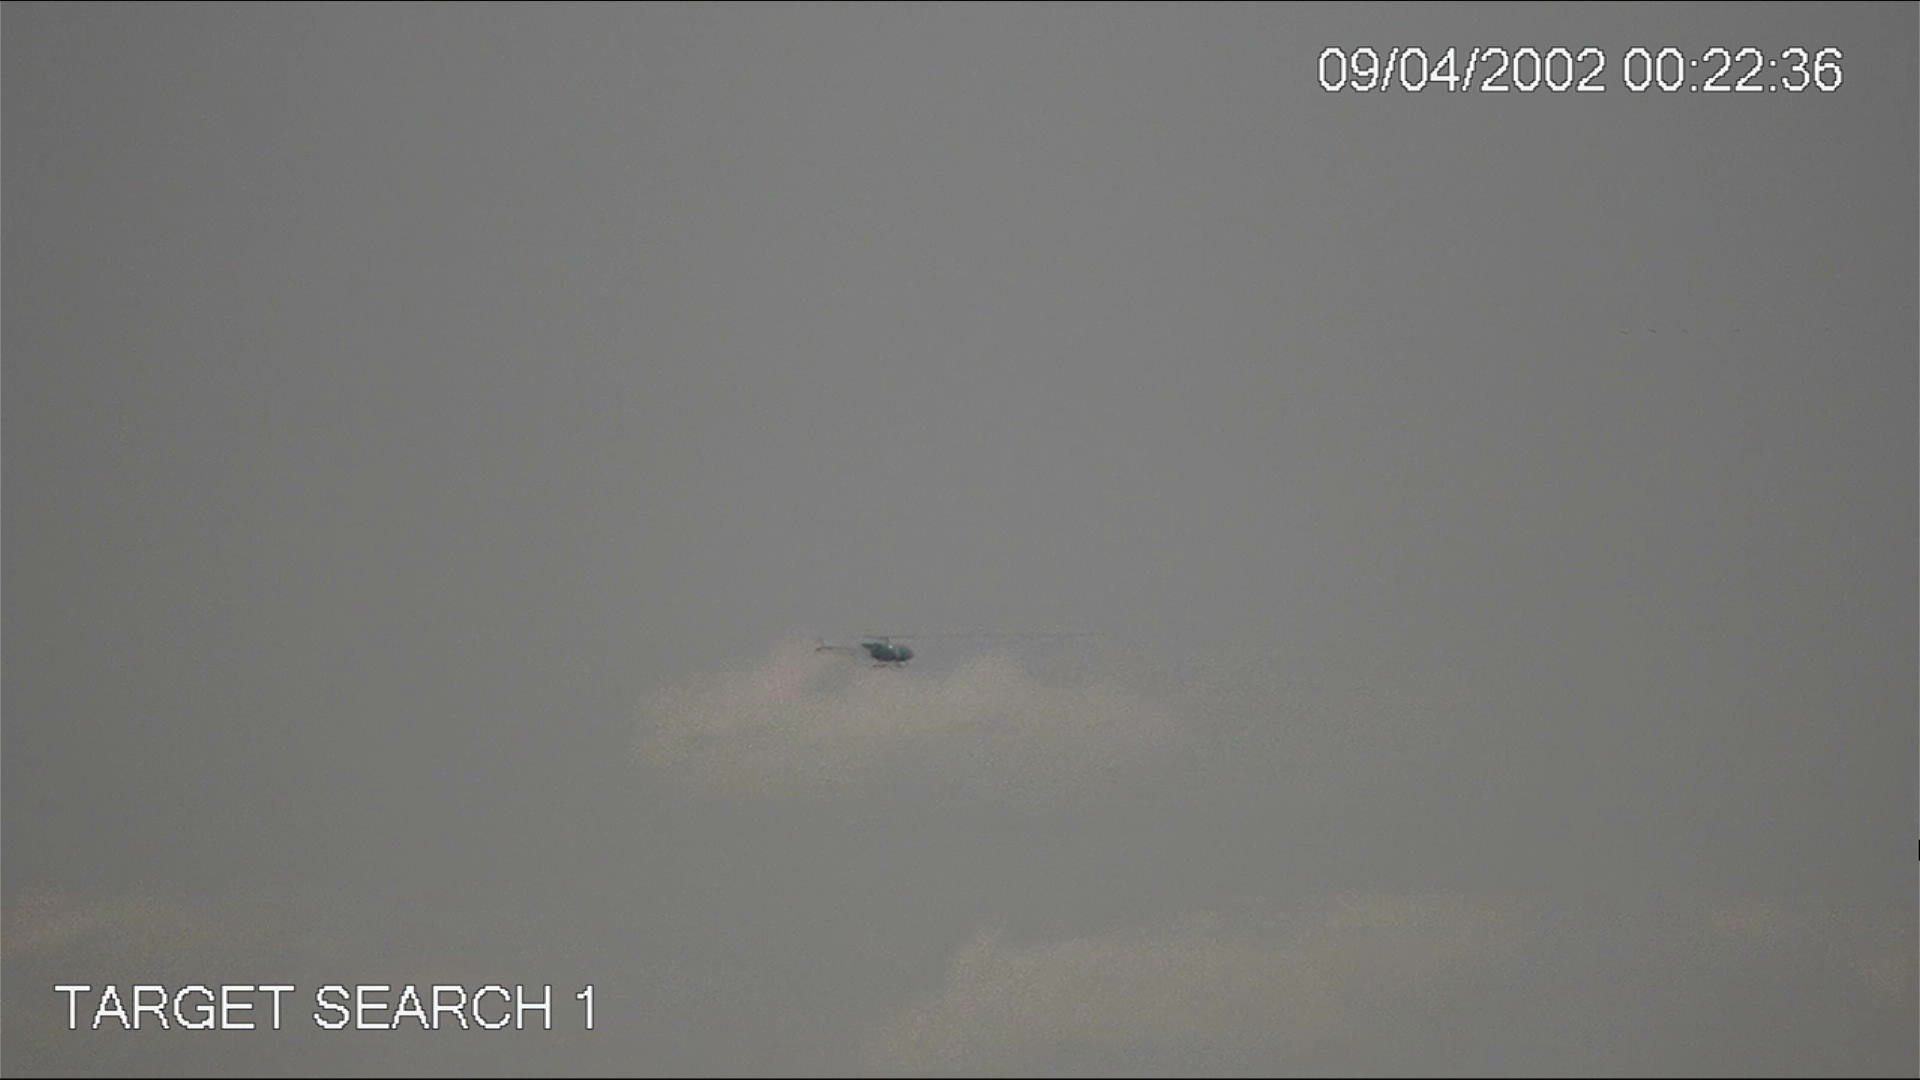SU_30: (812, 626, 918, 673)
